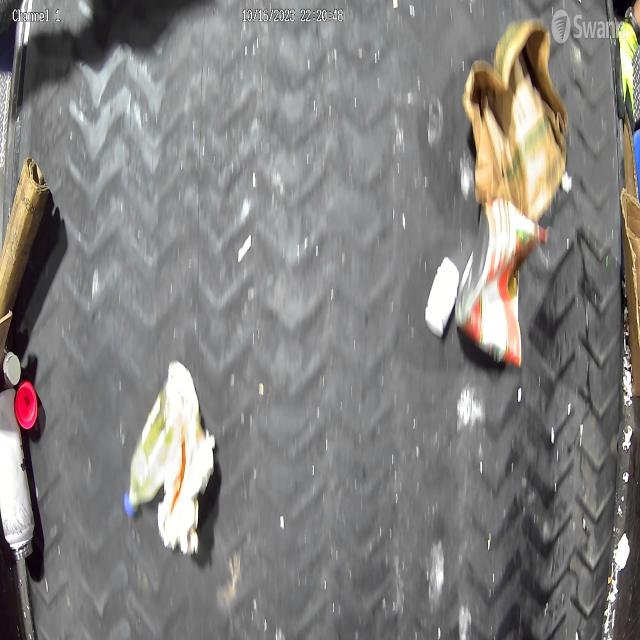can: (456, 197, 548, 366)
